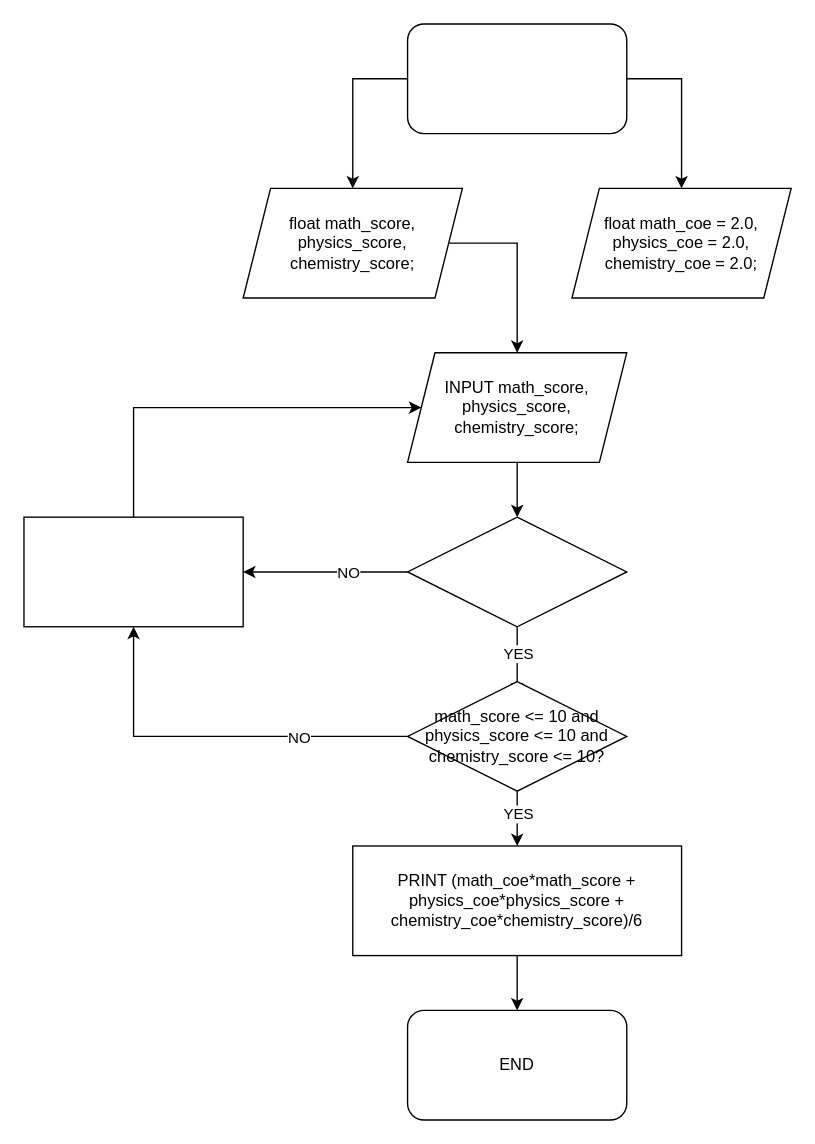
Image size: 815x1144. Some labels were removed from this diagram. The centre of each missing label's shape, as x and y in pixels:
math_score >= 0 and physics_score >= 0 and chemistry_score >= 0?: the point at 516,571
PRINT "ERROR": the point at 133,571
START: the point at 516,78
